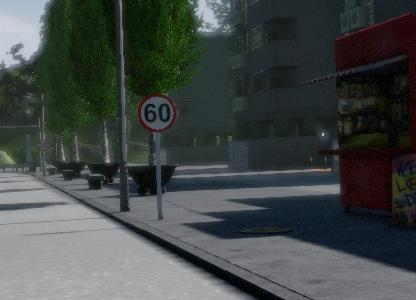Speed_60: (138, 93, 181, 135)
